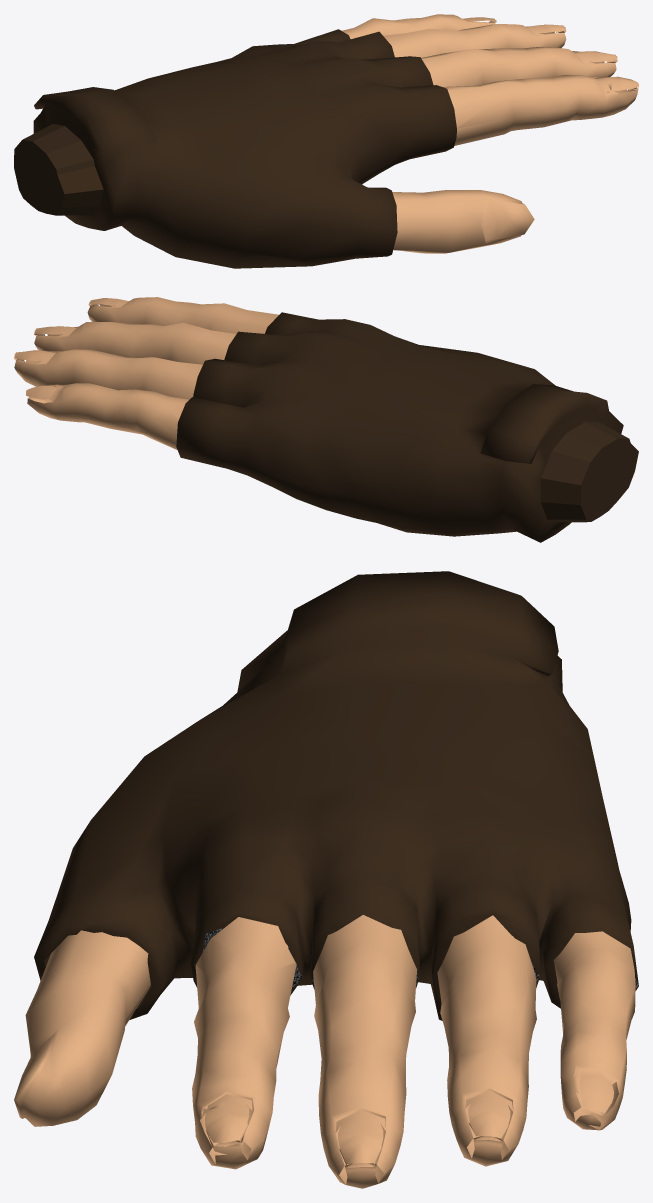
The model's file is righthand.obj.
The picture shows the model from 3 angles, top to bottom: view 1: azimuth 30°, elevation 25°; view 2: azimuth 150°, elevation 25°; view 3: azimuth 270°, elevation 25°; orthographic projection. The views are drawn at different scales.
Visible parts, largest first — view 1: Mesh1 Model, Mesh3 Model, Mesh4 Model, Mesh5 Model, Mesh2 Model, Mesh7 Model, Mesh9 Model; view 2: Mesh1 Model, Mesh7 Model, Mesh2 Model, Mesh5 Model, Mesh3 Model, Mesh6 Model; view 3: Mesh1 Model, Mesh5 Model, Mesh3 Model, Mesh4 Model, Mesh2 Model, Mesh7 Model, Mesh9 Model, Mesh6 Model.
Boxes of the visible parts, <box> form: Mesh1 Model: <box>14,29,456,268</box>; Mesh3 Model: <box>443,75,638,145</box>; Mesh4 Model: <box>392,190,534,253</box>; Mesh5 Model: <box>421,47,617,86</box>; Mesh2 Model: <box>383,24,566,57</box>; Mesh7 Model: <box>341,14,495,38</box>; Mesh9 Model: <box>574,51,617,63</box>; Mesh1 Model: <box>176,312,638,542</box>; Mesh7 Model: <box>26,383,188,449</box>; Mesh2 Model: <box>14,349,202,399</box>; Mesh5 Model: <box>34,322,236,364</box>; Mesh3 Model: <box>87,297,278,333</box>; Mesh6 Model: <box>15,350,56,363</box>; Mesh1 Model: <box>34,571,638,1020</box>; Mesh5 Model: <box>313,915,416,1188</box>; Mesh3 Model: <box>192,917,296,1169</box>; Mesh4 Model: <box>14,930,150,1126</box>; Mesh2 Model: <box>437,915,536,1166</box>; Mesh7 Model: <box>553,931,635,1130</box>; Mesh9 Model: <box>335,1110,385,1166</box>; Mesh6 Model: <box>465,1090,513,1137</box>.
Size of the model in its own units: 8.48 by 2.12 by 4.48.
Materials: 3 (1 with a texture image).
